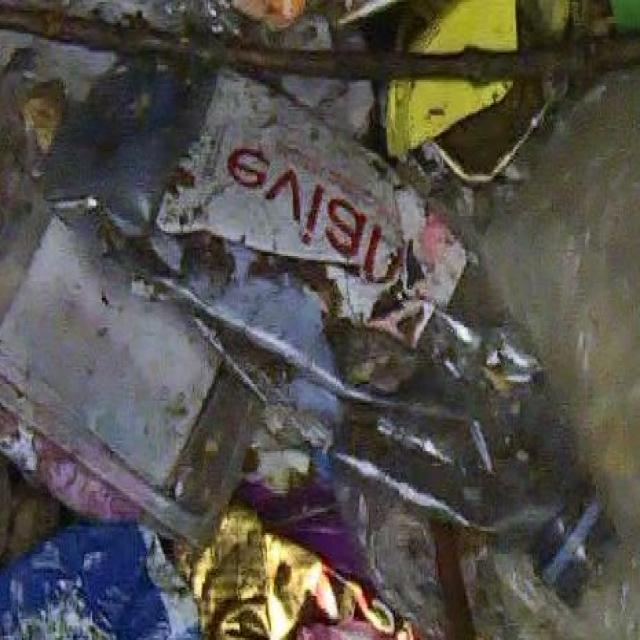litter: (87, 0, 620, 601)
